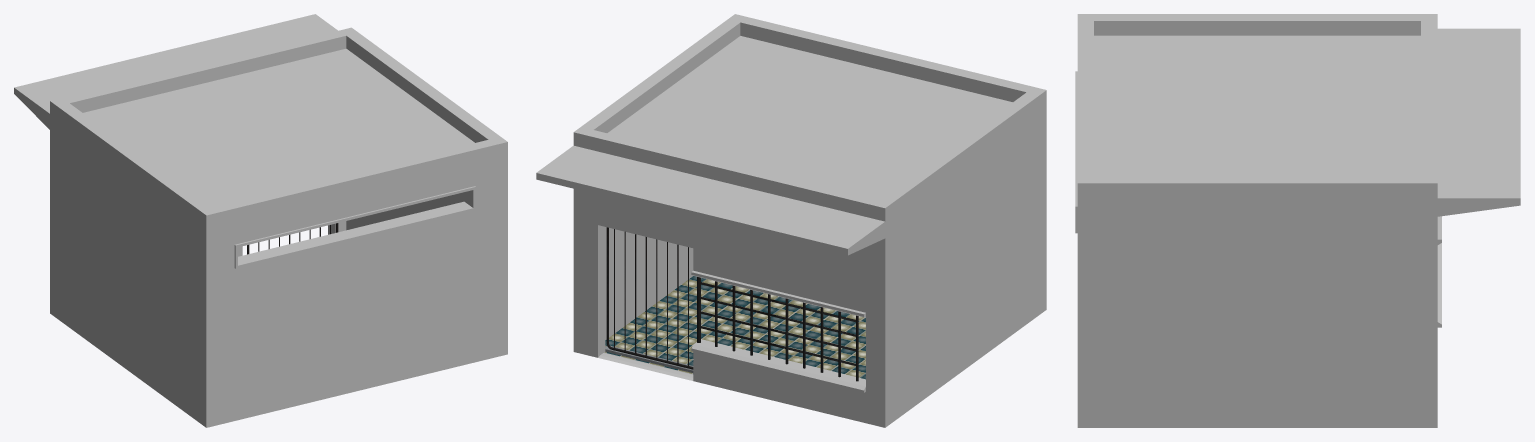
3 renders of one model, left to right at view 1: azimuth 30°, elevation 25°; view 2: azimuth 150°, elevation 25°; view 3: azimuth 270°, elevation 25°, orthographic. The views are drawn at different scales.
Visible parts, largest first — view 1: Celas; view 2: Celas, Chao, Prisao, Portao, Trilho; view 3: Celas.
Part boxes in pixels (box(x1,y1,x2,y2)): Celas: box(14, 14, 507, 427); Celas: box(536, 14, 1046, 427); Chao: box(605, 276, 865, 379); Prisao: box(697, 277, 858, 381); Portao: box(606, 227, 693, 369); Trilho: box(605, 345, 693, 372); Celas: box(1075, 14, 1520, 427).
Size of the model in its own units: 490 by 330 by 544.
